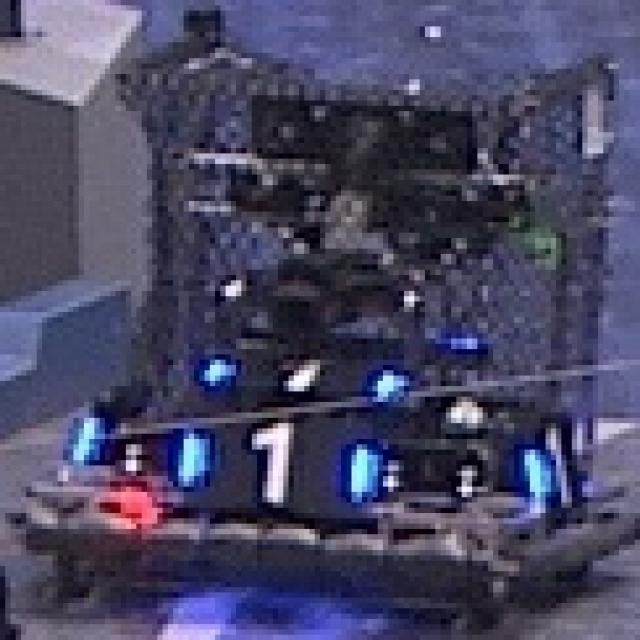B1: (184, 423, 378, 508), (520, 418, 588, 518)
